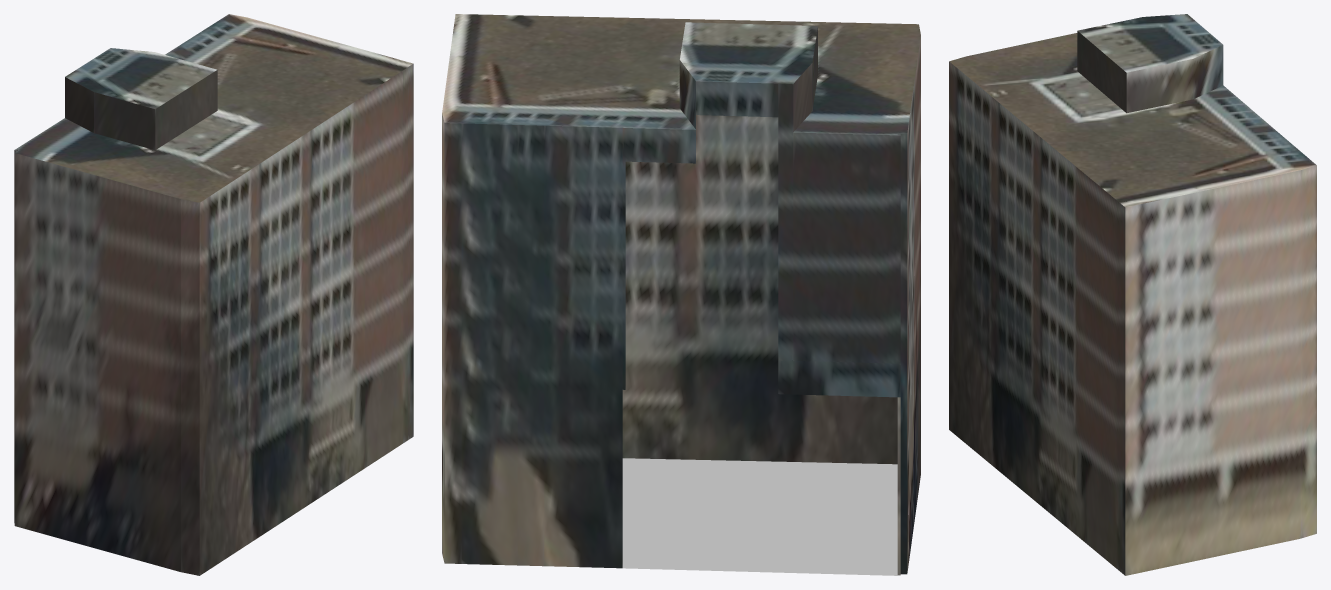
The model's file is testModel.dae.
3 views of the same model, side by side, from view 1: azimuth 30°, elevation 25°; view 2: azimuth 150°, elevation 25°; view 3: azimuth 270°, elevation 25° (orthographic). The views are drawn at different scales.
Bounding box in the file's own units: 22.93 × 18.92 × 23.22.
4 materials, 3 textured.
